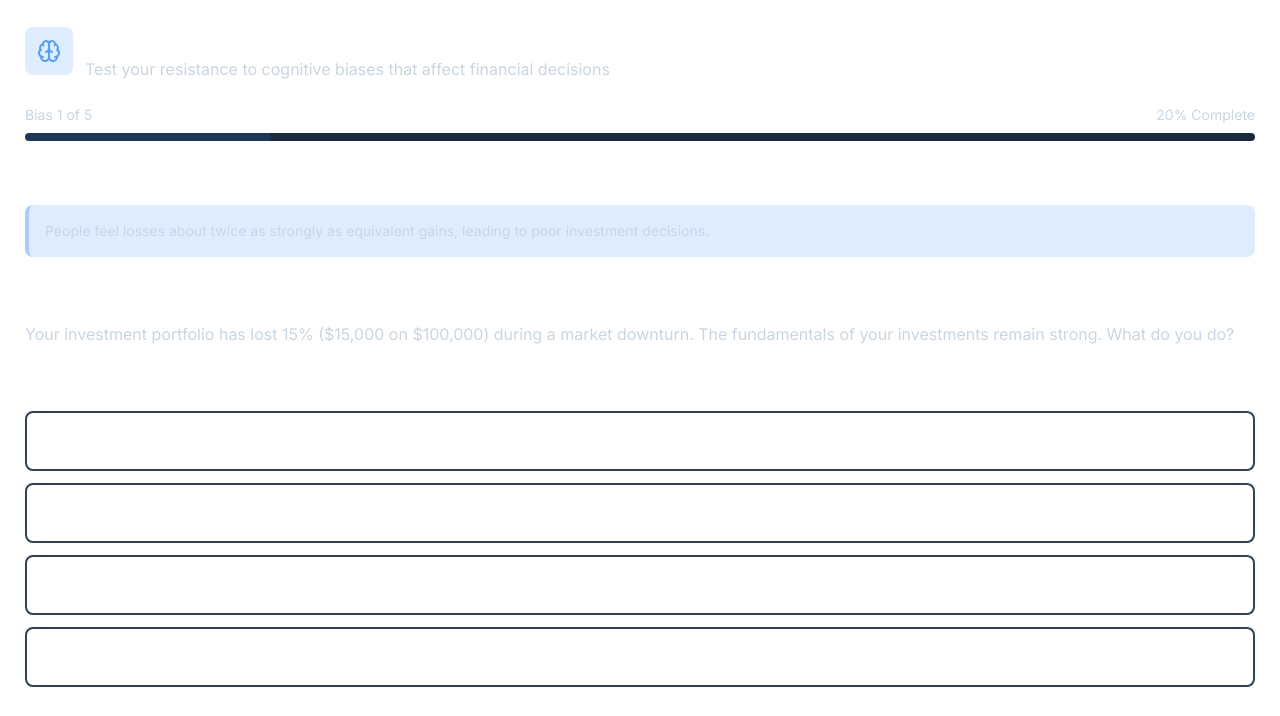
it: BehavioralFinanceSimulator › shows biased decision feedback for poor choices
Click the button "Sell everything to prevent further losses": (196, 441) top-left (25, 411), bottom-right (1255, 471)
(page scrolled)
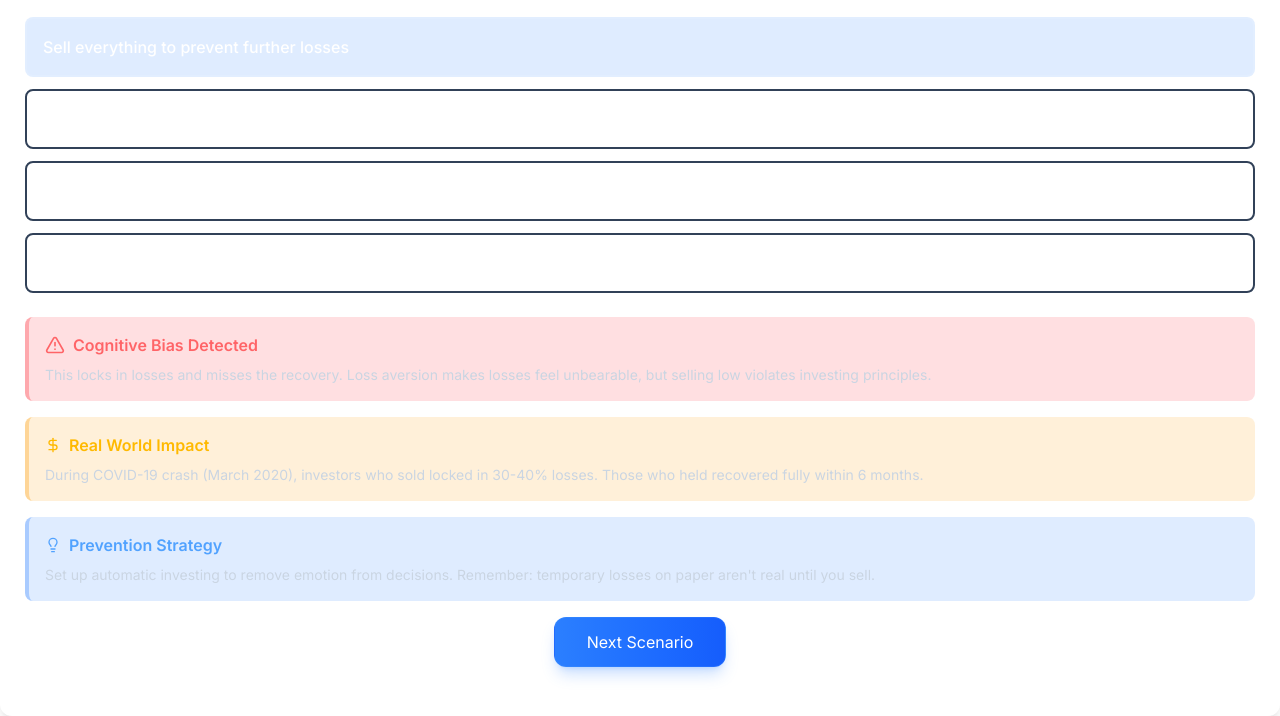
Now the heading "Cognitive Bias Detected" is shown, box top-left (73, 333), bottom-right (258, 357)
Now the text "This locks in losses and misses the recovery" is shown, box top-left (45, 366), bottom-right (932, 383)
